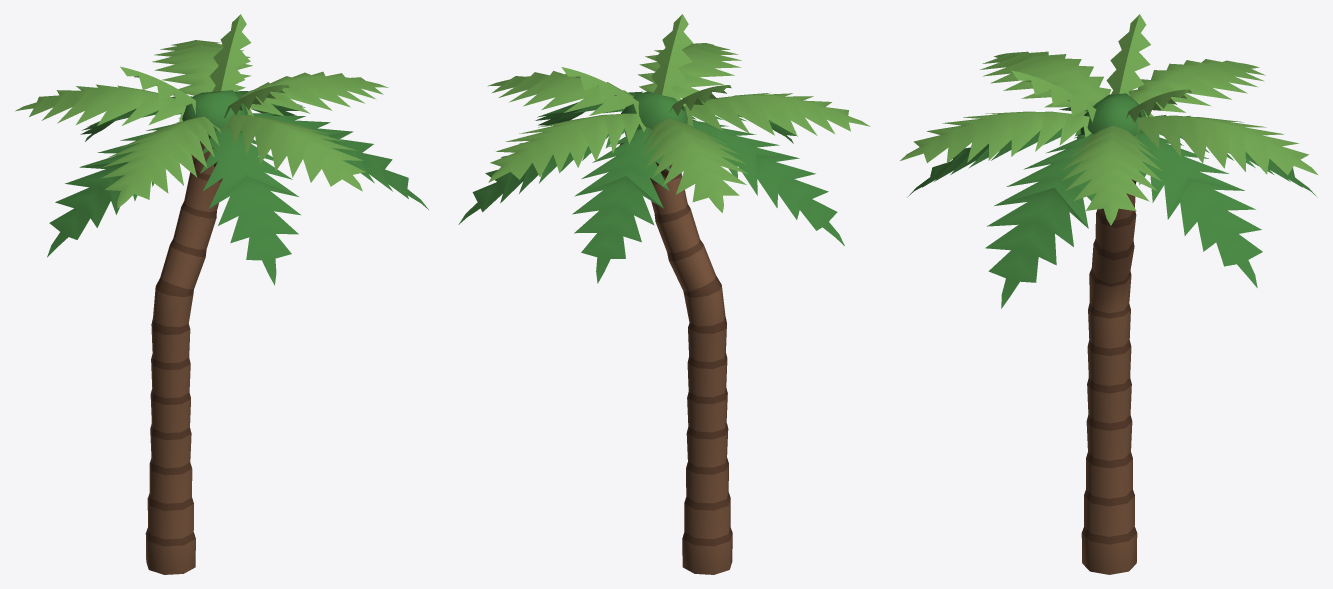
File: palm_c.glb
The picture shows the model from 3 angles, left to right: view 1: azimuth 30°, elevation 25°; view 2: azimuth 150°, elevation 25°; view 3: azimuth 270°, elevation 25°; orthographic projection. The views are drawn at different scales.
Parts seen in each view (by area): view 1: body; view 2: body; view 3: body.
Boxes of the visible parts, x1,y1,x2,y2 form: body: [15, 14, 428, 574]; body: [458, 14, 870, 574]; body: [900, 14, 1317, 574].
Size of the model in its own units: 3.33 by 4.51 by 3.24.
